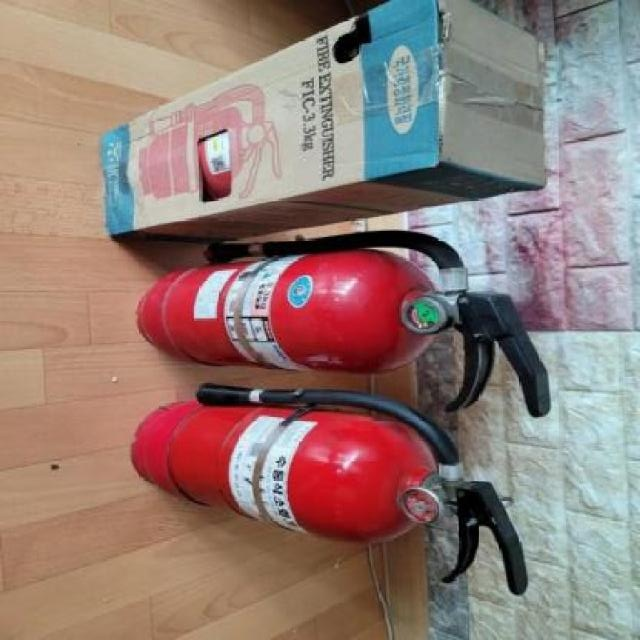fire extinguisher: (128, 382, 529, 596), (135, 230, 553, 419)
